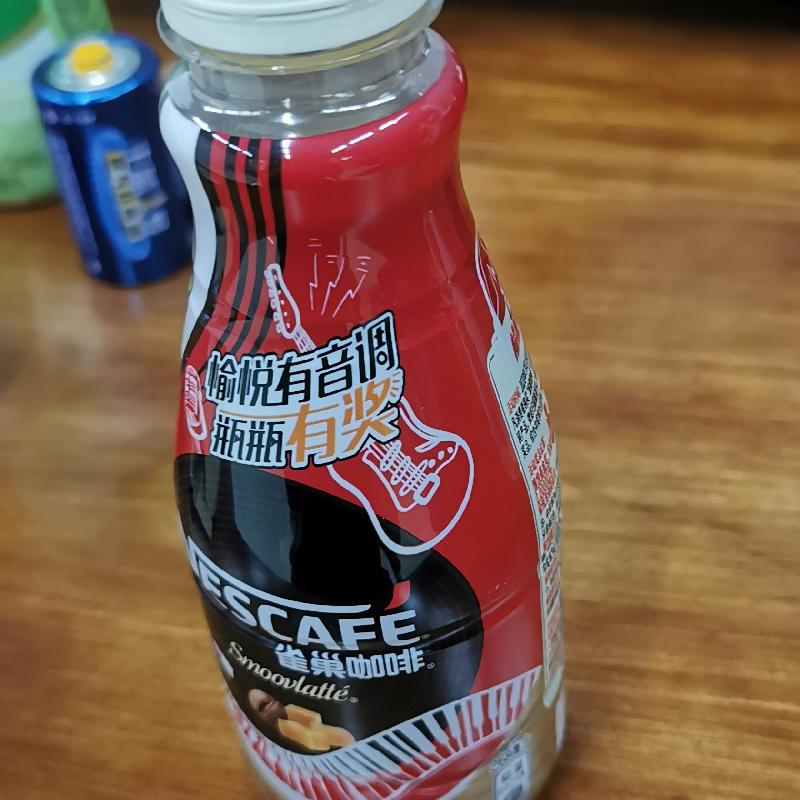bottles: (150, 0, 577, 799)
